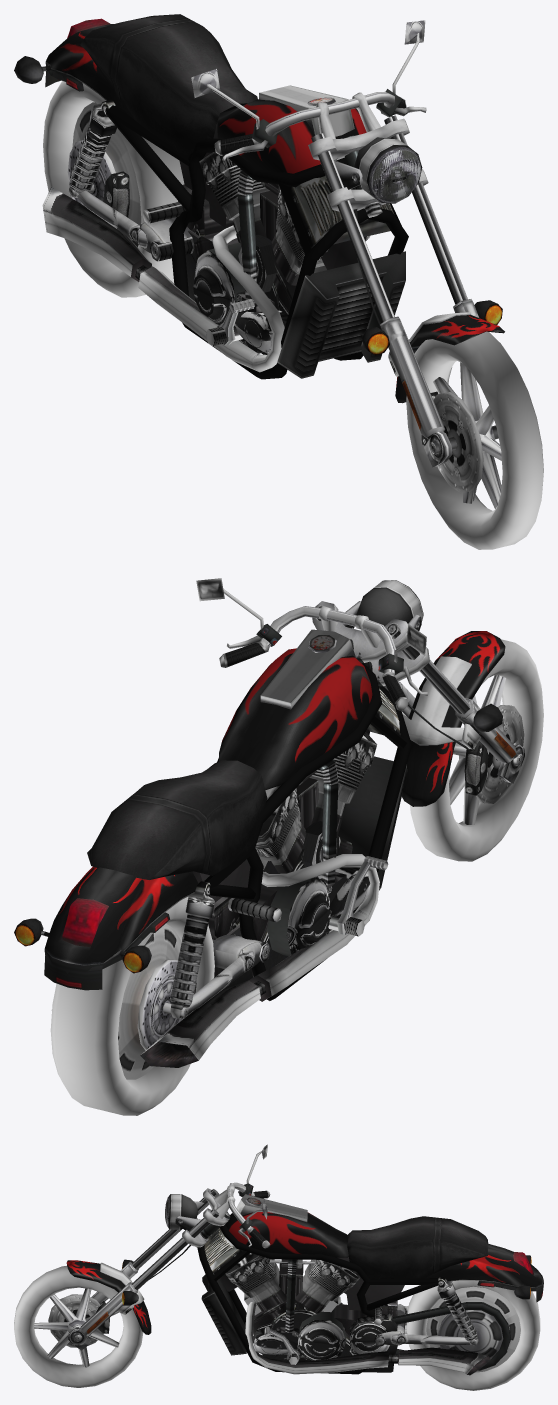
The model's file is motor_05_sub.FBX.
3 views of the same model, one above another, from view 1: azimuth 30°, elevation 25°; view 2: azimuth 150°, elevation 25°; view 3: azimuth 270°, elevation 25° (orthographic). The views are drawn at different scales.
Parts seen in each view (by area): view 1: body, body_leather, f_wheel, steer, body_paint, b_wheel, f_axle, f_wheel01, steer_light, b_wheel01, f_axle_light; view 2: body, body_paint, body_leather, b_wheel, f_axle, steer, f_wheel, b_wheel01, f_wheel01, steer_light; view 3: body, body_leather, body_paint, f_wheel, b_wheel, steer, b_wheel01, f_axle, f_wheel01, steer_light.
Boxes of the visible parts, x1=… form: body: x1=42, y1=85, x2=408, y2=379; body_leather: x1=80, y1=14, x2=405, y2=378; f_wheel: x1=406, y1=331, x2=543, y2=549; steer: x1=191, y1=20, x2=467, y2=322; body_paint: x1=14, y1=18, x2=366, y2=173; b_wheel: x1=43, y1=81, x2=184, y2=297; f_axle: x1=353, y1=209, x2=504, y2=467; f_wheel01: x1=430, y1=362, x2=501, y2=508; steer_light: x1=354, y1=137, x2=422, y2=203; b_wheel01: x1=67, y1=102, x2=141, y2=247; f_axle_light: x1=362, y1=300, x2=502, y2=355; body: x1=51, y1=629, x2=411, y2=1067; body_paint: x1=14, y1=648, x2=372, y2=990; body_leather: x1=87, y1=729, x2=407, y2=990; b_wheel: x1=50, y1=896, x2=214, y2=1115; f_axle: x1=398, y1=631, x2=524, y2=806; steer: x1=196, y1=578, x2=469, y2=714; f_wheel: x1=410, y1=639, x2=543, y2=861; b_wheel01: x1=118, y1=923, x2=188, y2=1079; f_wheel01: x1=449, y1=675, x2=524, y2=824; steer_light: x1=356, y1=580, x2=423, y2=626; body: x1=197, y1=1194, x2=490, y2=1375; body_leather: x1=201, y1=1216, x2=510, y2=1372; body_paint: x1=225, y1=1212, x2=543, y2=1302; f_wheel: x1=14, y1=1266, x2=143, y2=1387; b_wheel: x1=406, y1=1280, x2=540, y2=1390; steer: x1=132, y1=1144, x2=270, y2=1290; b_wheel01: x1=426, y1=1286, x2=520, y2=1372; f_axle: x1=66, y1=1245, x2=190, y2=1350; f_wheel01: x1=34, y1=1288, x2=119, y2=1367; steer_light: x1=165, y1=1194, x2=198, y2=1229.
Size of the model in its own units: 0.7049 by 1.08 by 2.44.
